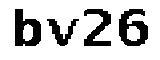2: (79, 6, 115, 51)
6: (117, 6, 150, 50)
b: (10, 6, 43, 51)
v: (46, 16, 79, 47)
